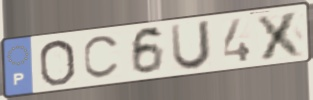4: (221, 16, 253, 65)
6: (128, 25, 168, 78)
C: (81, 33, 123, 81)
O: (37, 38, 78, 88)
U: (168, 18, 213, 73)
X: (255, 8, 308, 62)
